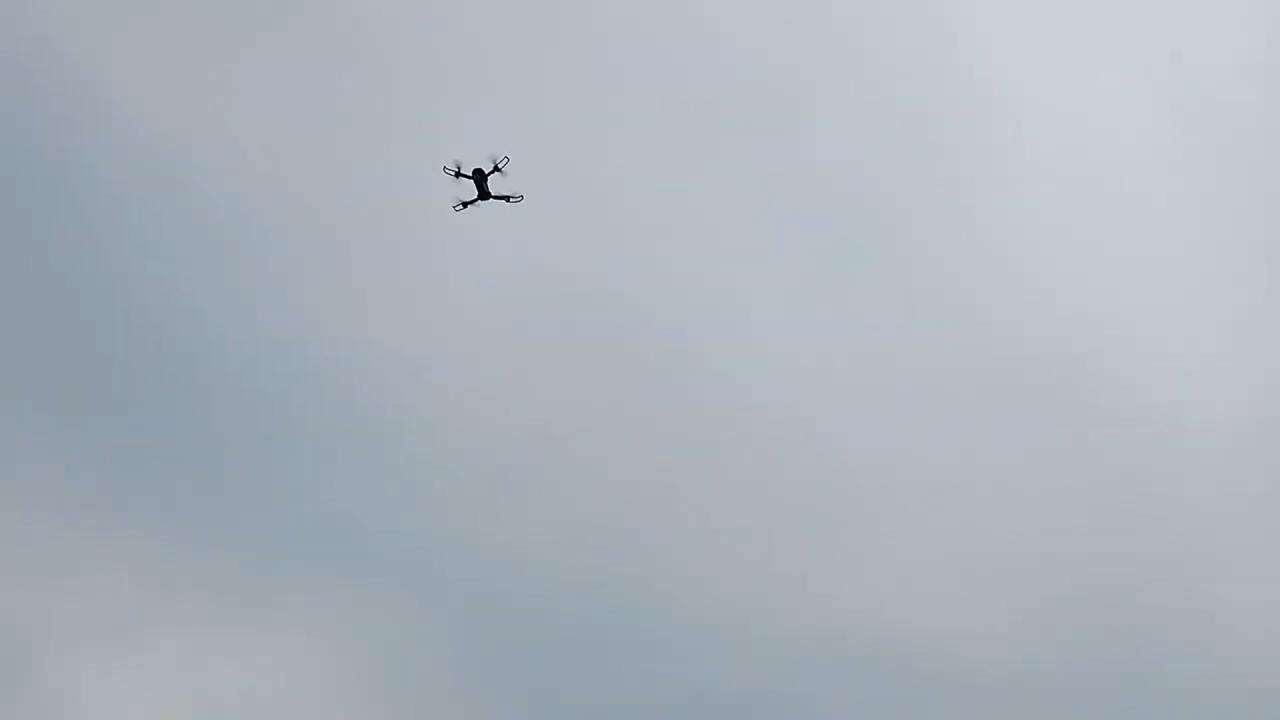Drone: (428, 144, 537, 222)
